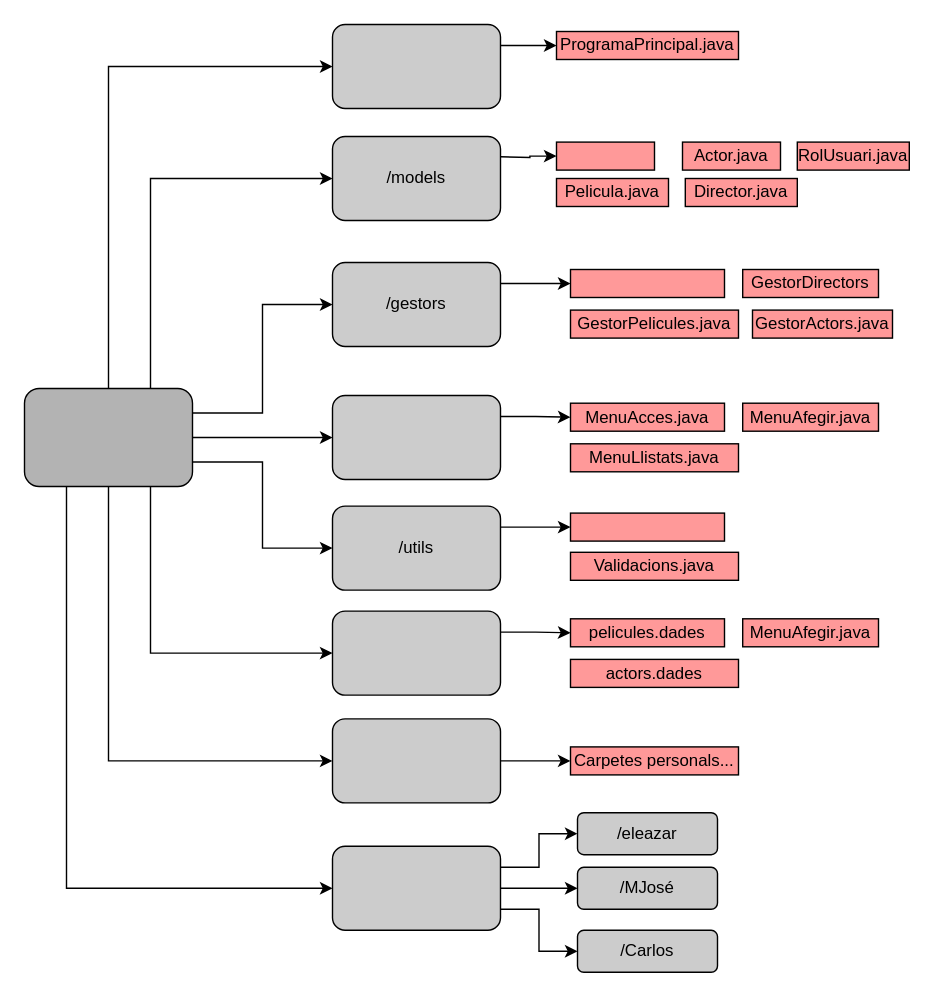
This 934x997 diagram has some shape labels left out. The centre of each missing label's shape, as x and y in pixels:
/Carpetes Personals: [415,887]
/dades: [415,652]
/main: [415,65]
/menus: [415,436]
/usuaris: [415,760]
Fitxers.java: [646,526]
GestorUsuaris.java: [646,283]
PROJECTE /: [107,436]
Usuari.java: [604,155]
